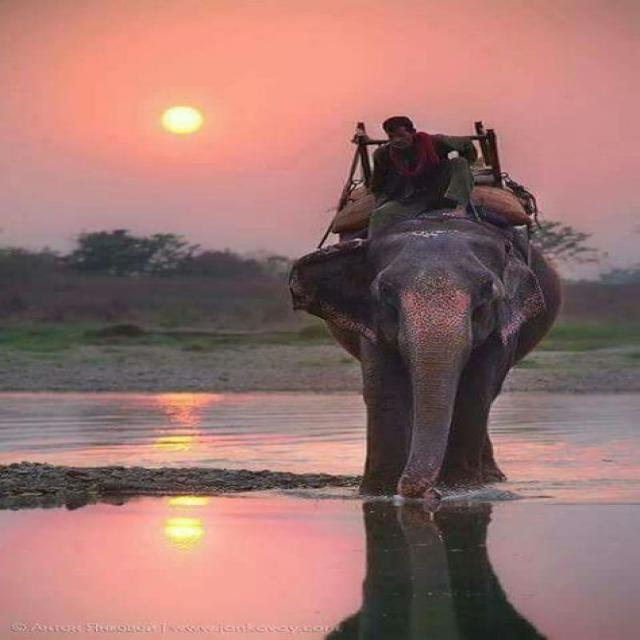Elephant: (263, 209, 604, 509)
